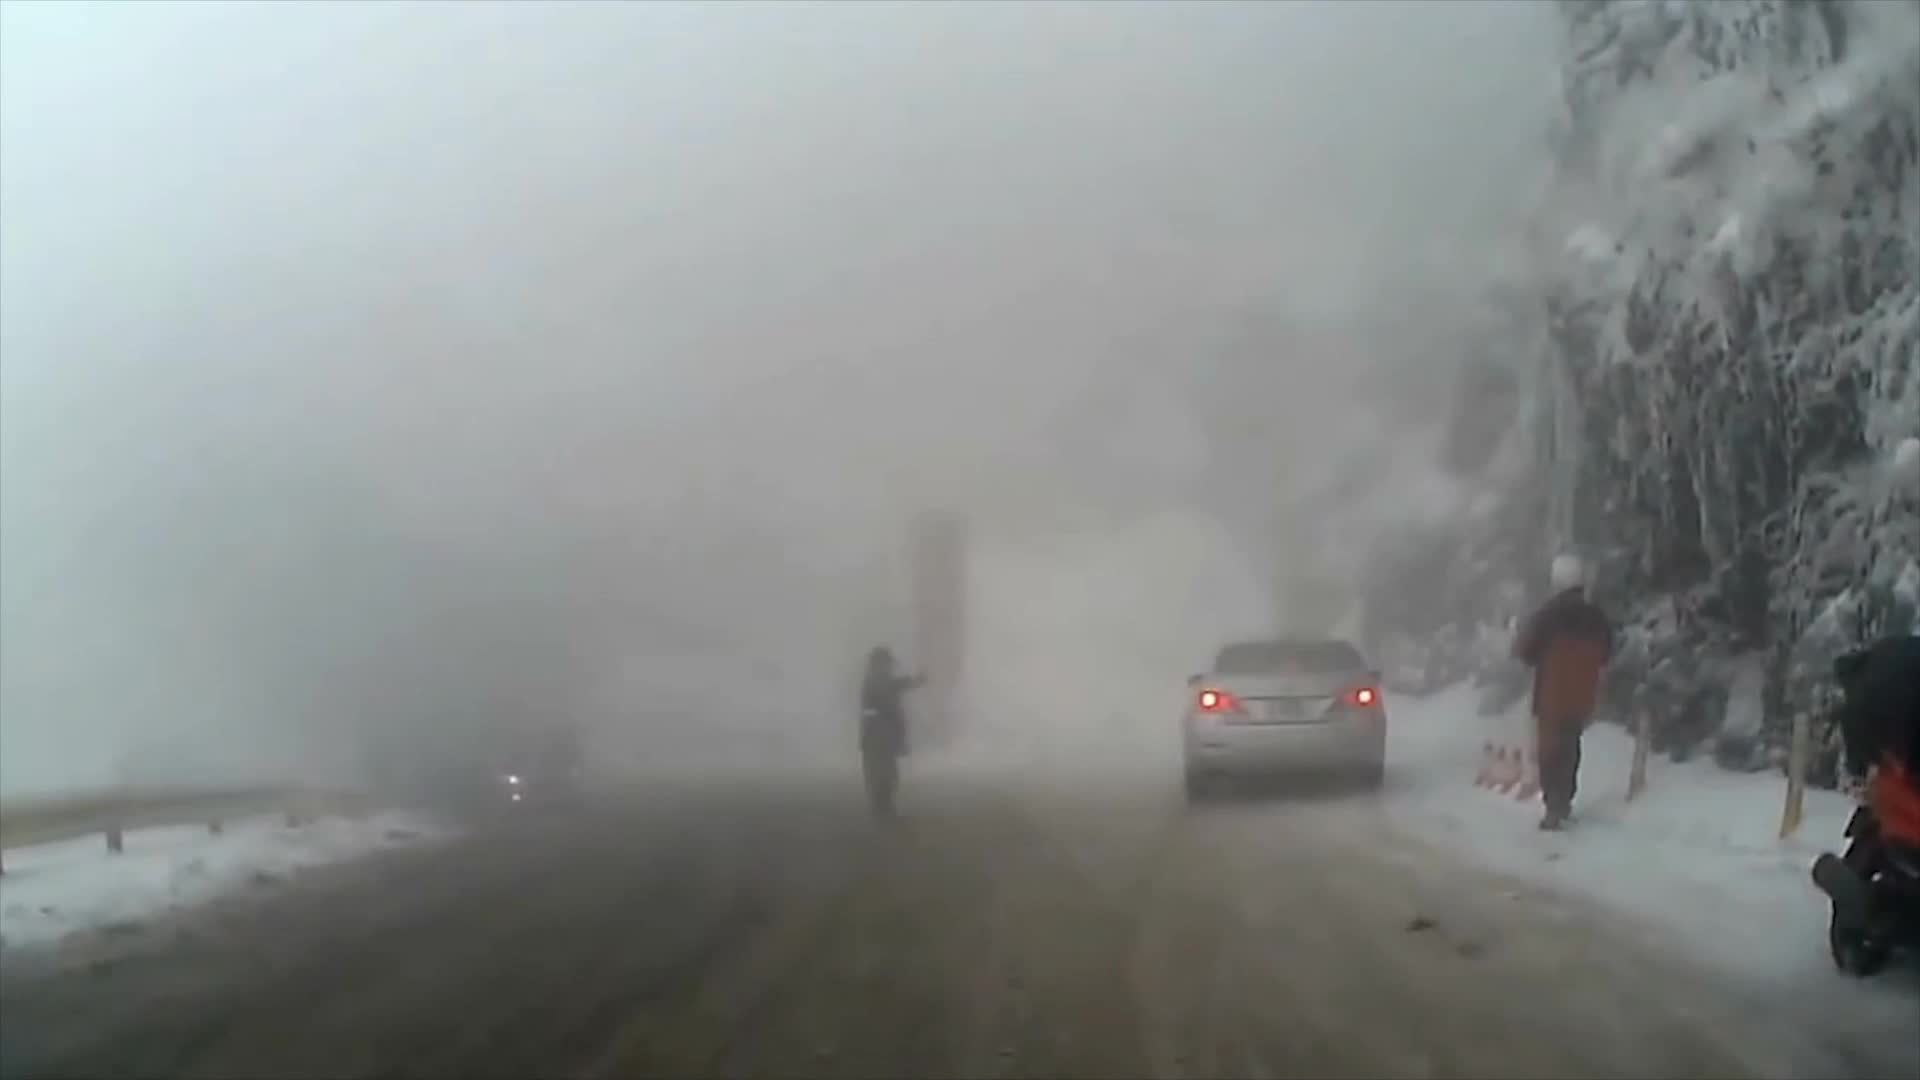pedestrian: (1517, 552, 1624, 836), (858, 644, 922, 824)
vehicle: (1183, 634, 1383, 805)
